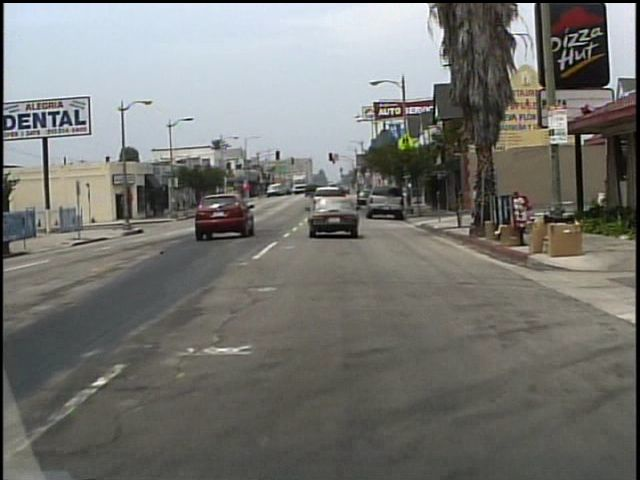person: (481, 180, 492, 214), (472, 183, 481, 211)
